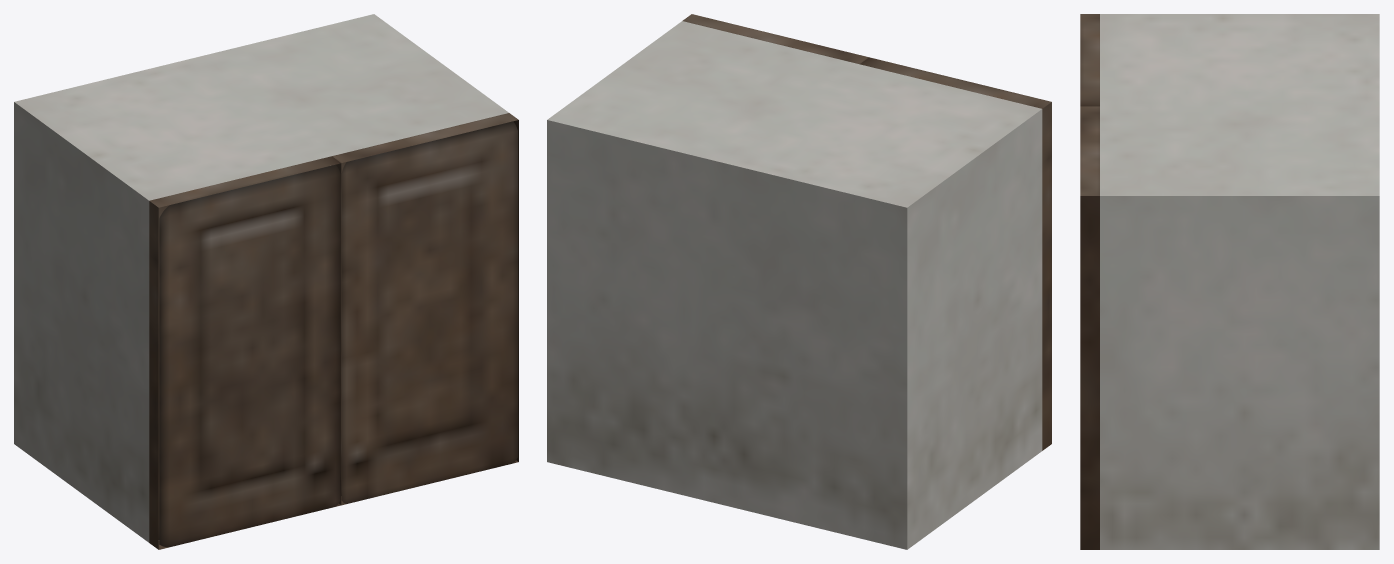
File: SM_EC_House_Kitchen_Cupboard_Static_04.fbx
The picture shows the model from 3 angles, left to right: view 1: azimuth 30°, elevation 25°; view 2: azimuth 150°, elevation 25°; view 3: azimuth 270°, elevation 25°; orthographic projection. The views are drawn at different scales.
Parts seen in each view (by area): view 1: SM_EC_House_Kitchen_Cupboard_Static_04; view 2: SM_EC_House_Kitchen_Cupboard_Static_04; view 3: SM_EC_House_Kitchen_Cupboard_Static_04.
Boxes of the visible parts, x1=… form: SM_EC_House_Kitchen_Cupboard_Static_04: x1=14, y1=14, x2=518, y2=549; SM_EC_House_Kitchen_Cupboard_Static_04: x1=547, y1=14, x2=1051, y2=549; SM_EC_House_Kitchen_Cupboard_Static_04: x1=1080, y1=14, x2=1379, y2=549.
Bounding box in the file's own units: 1.08 × 0.7546 × 0.9845.
